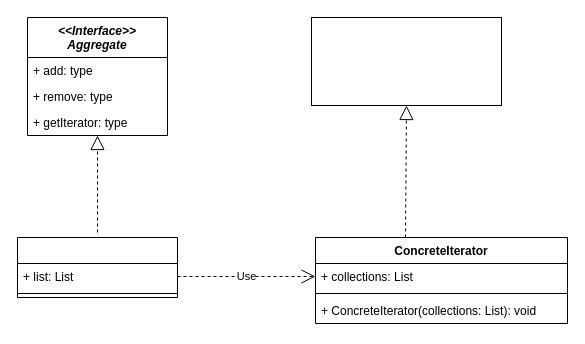
This 585x344 diagram has some shape labels left out. The shapes that lost their labels are listed below. From the top down, each one's box as (x1, y1, x2, y2) in pixels, then its label:
(310, 16, 502, 106): <<Interface>> Iterator + hasNext(): Boolean + next(): Type
(16, 236, 178, 298): ConcreteAggregate
